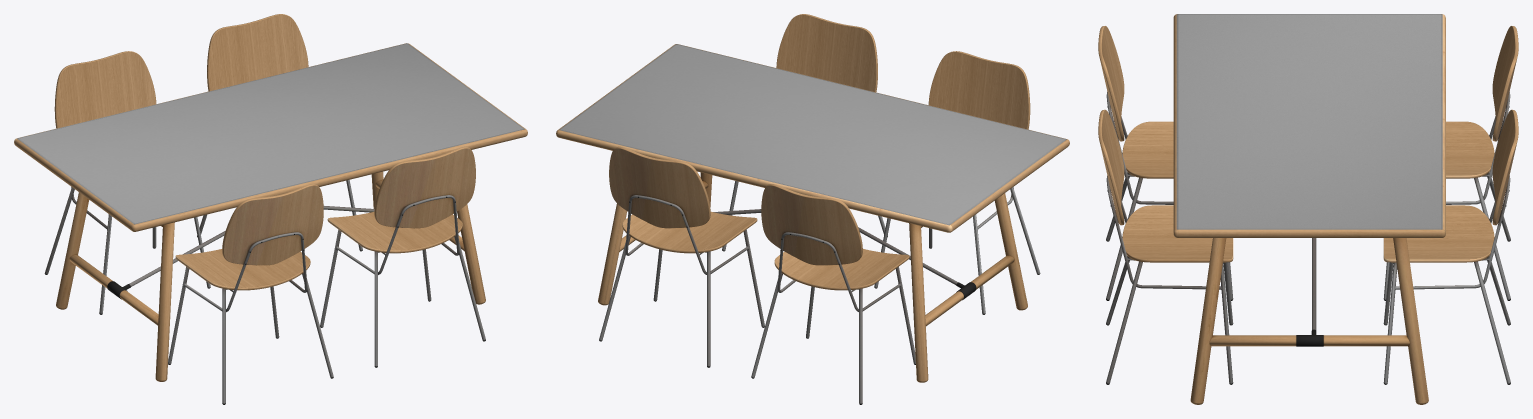
File: asset.glb
3 views of the same model, side by side, from view 1: azimuth 30°, elevation 25°; view 2: azimuth 150°, elevation 25°; view 3: azimuth 270°, elevation 25° (orthographic). The views are drawn at different scales.
Visible parts, largest first — view 1: MESA.001; view 2: MESA.001; view 3: MESA.001.
Boxes of the visible parts, bbox=[...] form: MESA.001: bbox=[14, 14, 527, 404]; MESA.001: bbox=[556, 14, 1069, 404]; MESA.001: bbox=[1098, 14, 1518, 404].
Bounding box in the file's own units: 1.86 × 0.9066 × 1.52.
14 materials, 14 textured.
